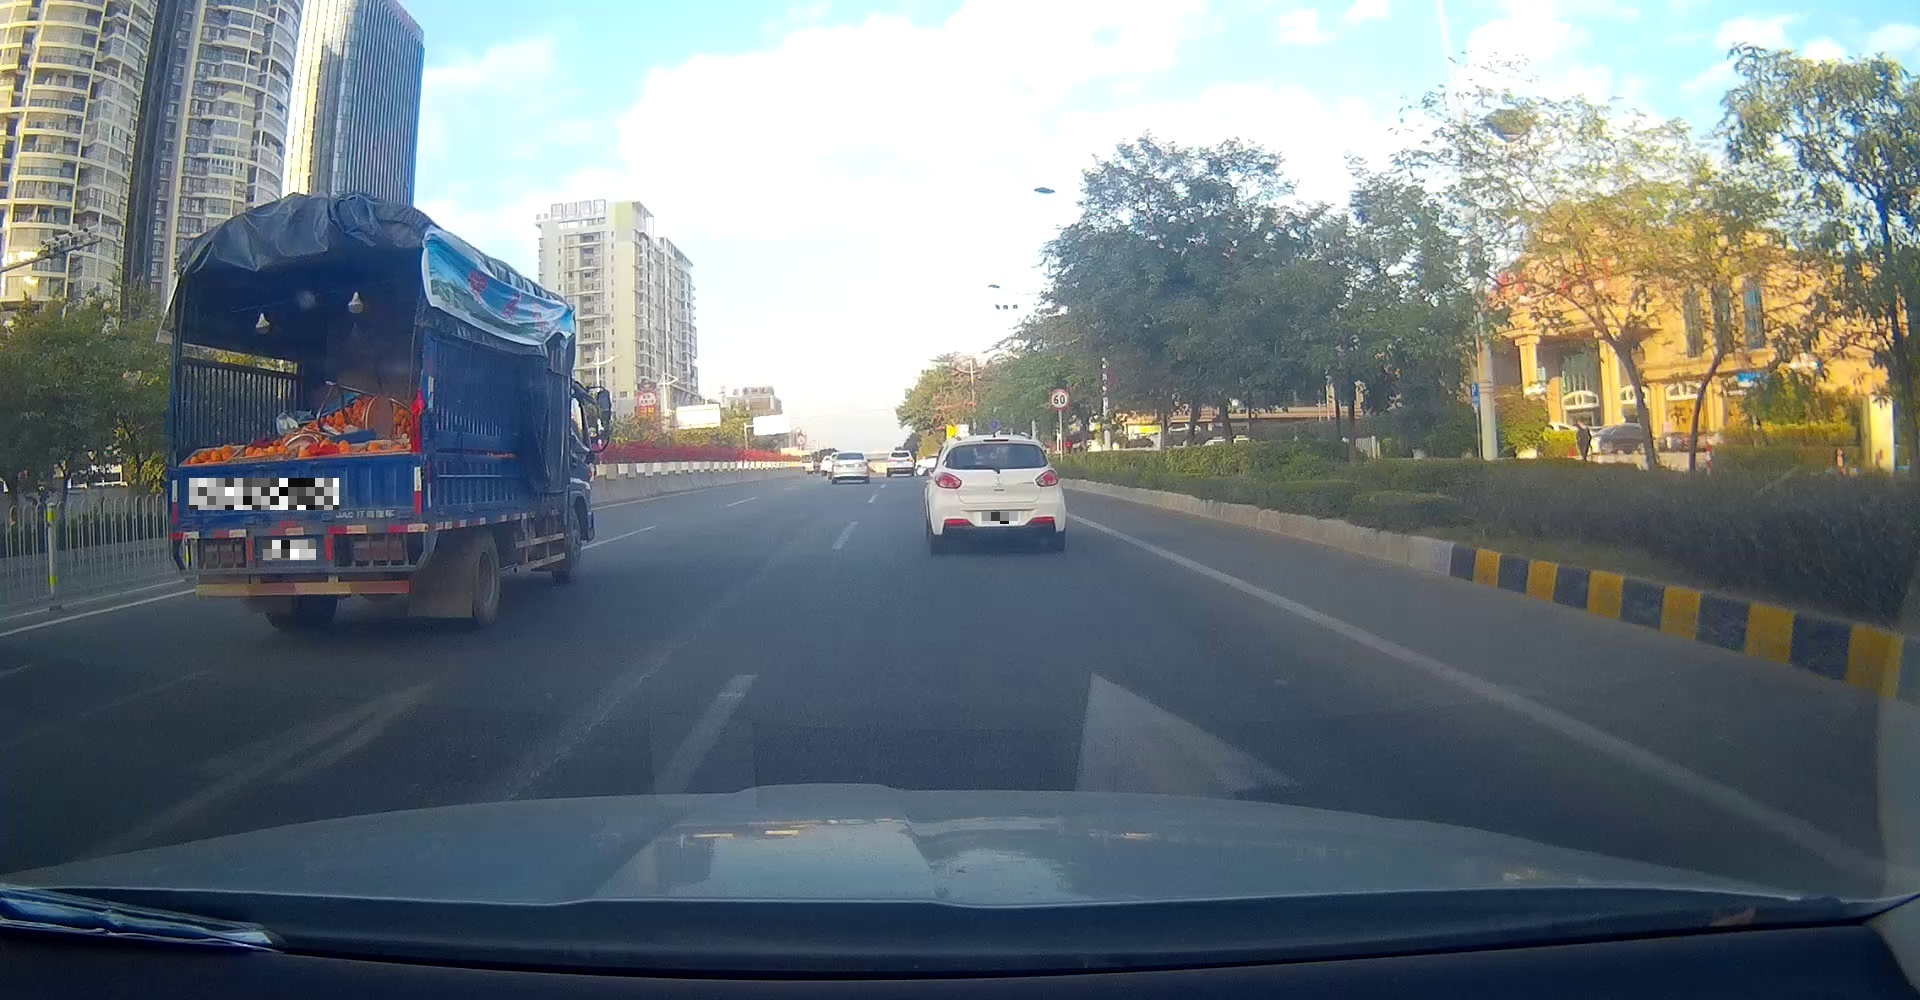L_light: (199, 538, 245, 566), (933, 471, 963, 490)
R_light: (350, 536, 406, 563), (1035, 470, 1060, 487)
T_light: (270, 209, 323, 222), (979, 444, 1004, 449)
day-no: (173, 189, 439, 627), (932, 437, 1065, 551)
plate_1: (189, 478, 339, 510)
plate_2: (263, 541, 316, 560)
plate_3: (982, 511, 1018, 524)
